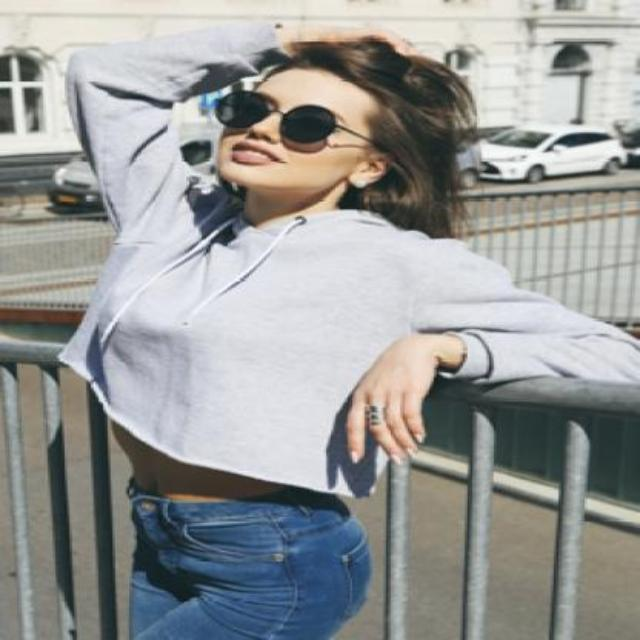sunglasses: (212, 89, 378, 147)
